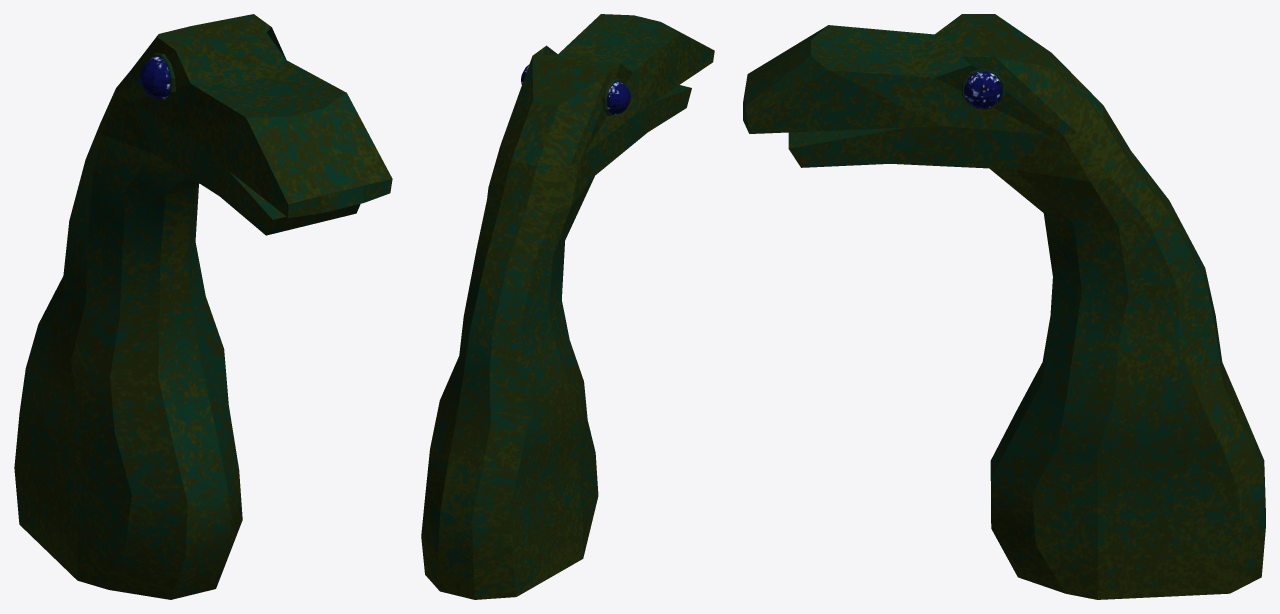
The model's file is Lagarto 5.obj.
3 renders of one model, left to right at view 1: azimuth 30°, elevation 25°; view 2: azimuth 150°, elevation 25°; view 3: azimuth 270°, elevation 25°, orthographic. The views are drawn at different scales.
Parts seen in each view (by area): view 1: polySurface59; view 2: polySurface59; view 3: polySurface59.
Part boxes in pixels (x1,y1,x2,y2): polySurface59: (14,14,392,599); polySurface59: (421,14,714,599); polySurface59: (743,14,1265,599).
Size of the model in its own units: 0.6223 by 2.36 by 2.1.
Materials: 2 (2 with a texture image).
